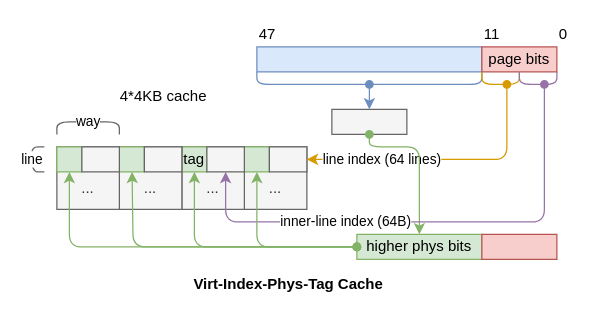
The diagram is 604 pixels wide and 318 high, and some of its shapes have lost their labels. The shapes that lost their labels are listed below. From the top down, each one's centre as x and y in pixels, then its label:
[369,59]: higher virt bits
[369,121]: TLB
[225,159]: data
